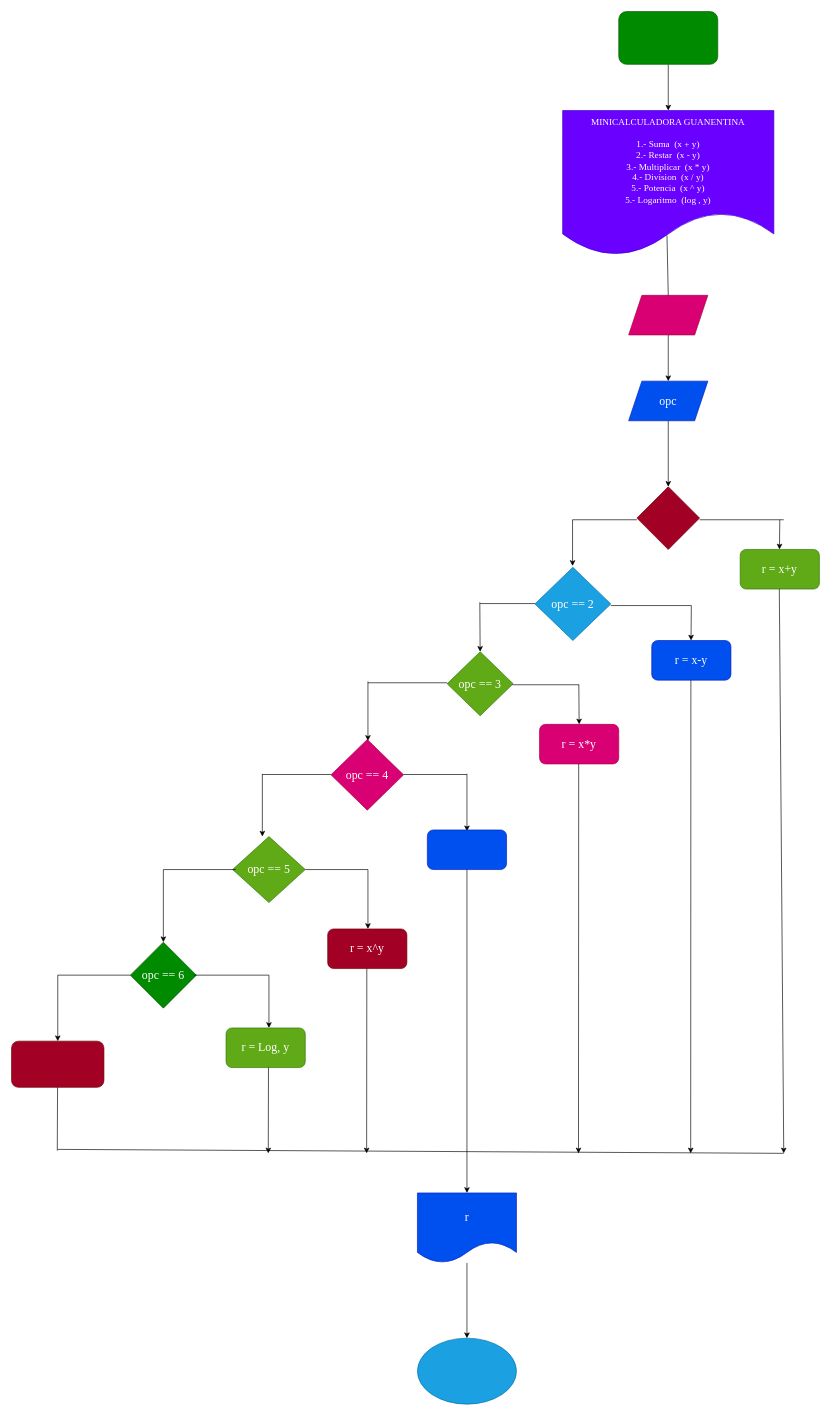
The diagram is 831 pixels wide and 1416 high, and some of its shapes have lost their labels. The shapes that lost their labels are listed below. From the top down, each one's centre as x and y in pixels, then its label:
(x=668, y=37): INICIO
(x=668, y=315): x,y
(x=668, y=517): opc == 1
(x=467, y=849): r = x/y
(x=57, y=1063): r = "No Valido"
(x=466, y=1370): Fin
